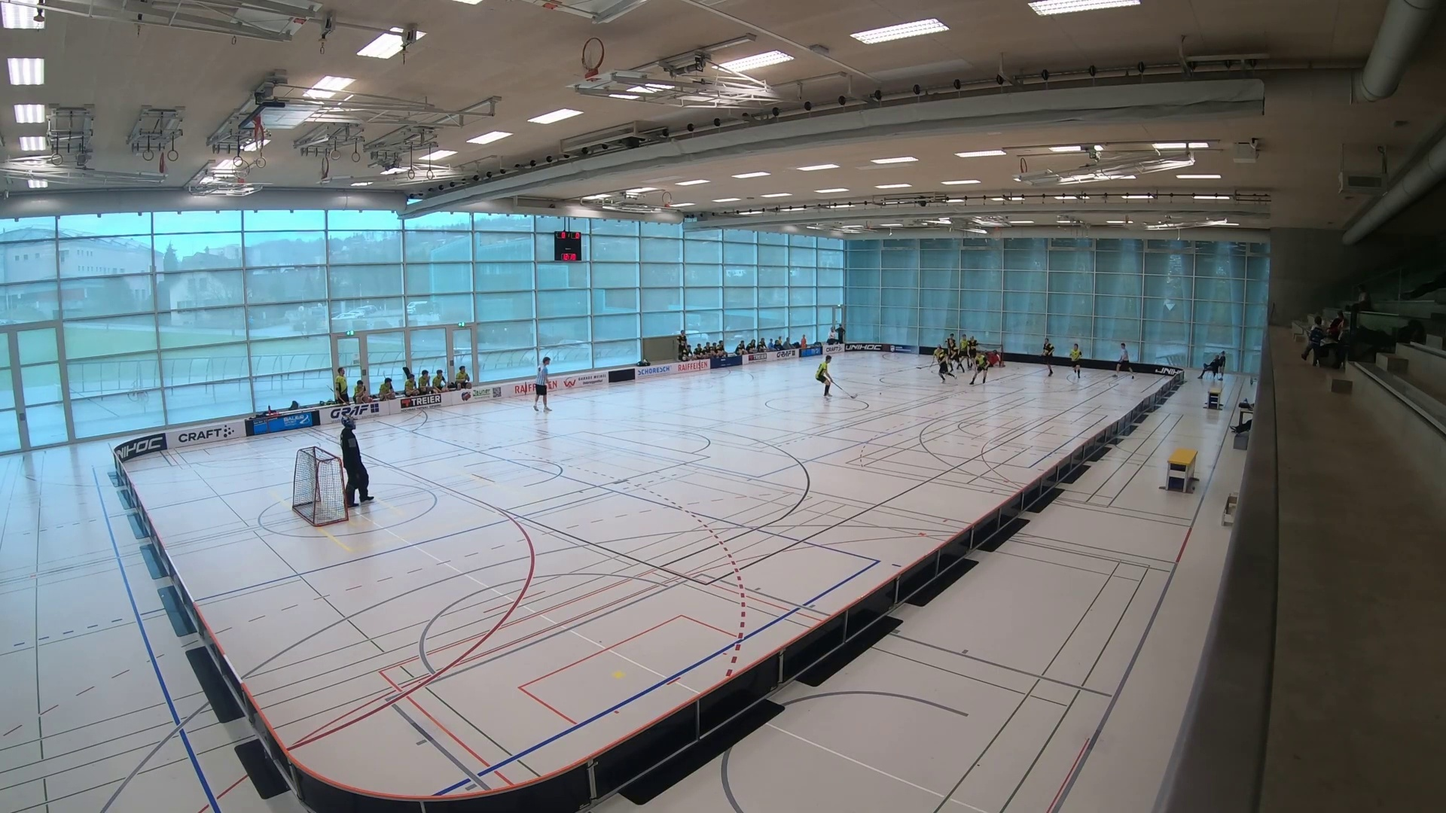Schiri: (529, 351, 561, 417), (1111, 336, 1136, 381)
ball: (878, 389, 883, 397)
goalkeeper: (325, 393, 386, 513), (985, 349, 1002, 368)
player: (812, 350, 859, 407), (931, 349, 957, 388), (968, 352, 996, 388), (1036, 335, 1057, 379), (1067, 338, 1085, 382), (947, 347, 967, 372), (967, 333, 978, 367), (960, 329, 968, 373), (943, 328, 957, 352), (930, 341, 944, 356)
